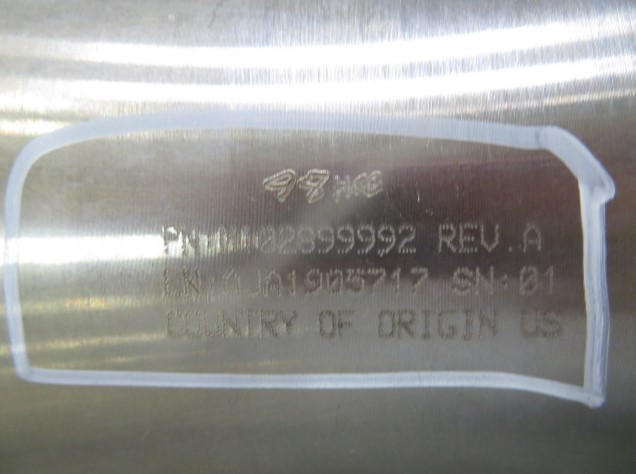character: (331, 306, 357, 342), (517, 307, 543, 343), (476, 306, 501, 343), (541, 308, 568, 342), (157, 265, 182, 301), (436, 305, 460, 341), (472, 262, 495, 299), (450, 264, 475, 297), (276, 307, 300, 341), (518, 263, 540, 300), (217, 309, 243, 340), (375, 306, 396, 344), (156, 223, 180, 256), (179, 222, 201, 258), (215, 223, 239, 256), (396, 306, 418, 342), (353, 224, 376, 258), (375, 224, 398, 258), (456, 221, 479, 255), (478, 220, 500, 255), (522, 221, 545, 254), (256, 306, 279, 339), (316, 305, 337, 341), (436, 222, 457, 257), (407, 265, 428, 300), (181, 307, 202, 342), (363, 266, 385, 299), (336, 224, 357, 258), (181, 266, 203, 298), (344, 267, 366, 299), (201, 304, 220, 341), (398, 224, 418, 258), (240, 306, 260, 340), (163, 308, 184, 340), (295, 225, 315, 258), (222, 267, 242, 300), (323, 266, 344, 297), (257, 223, 276, 257), (538, 263, 557, 297), (277, 223, 295, 258), (245, 267, 263, 302), (264, 270, 283, 303), (387, 265, 406, 298), (418, 306, 436, 340), (317, 226, 336, 258), (305, 267, 324, 299), (461, 307, 476, 345), (241, 222, 254, 259), (284, 268, 299, 300)
